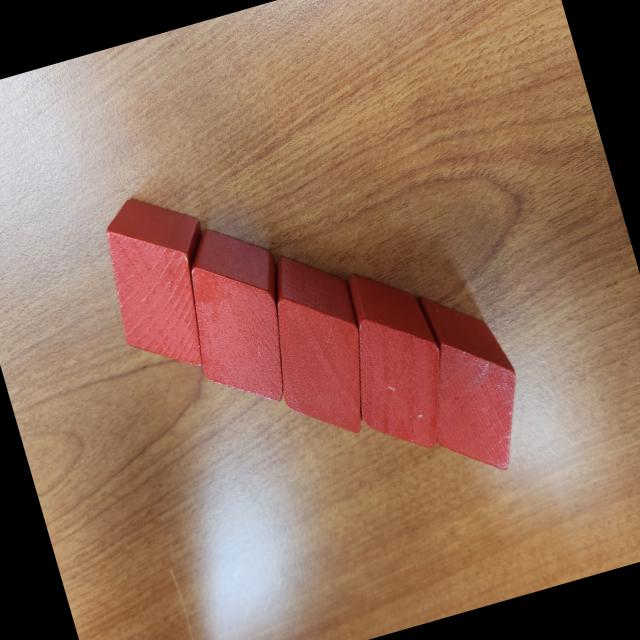red: (164, 212, 314, 420), (395, 276, 541, 487), (321, 254, 465, 466), (245, 241, 388, 451), (89, 181, 238, 381)
